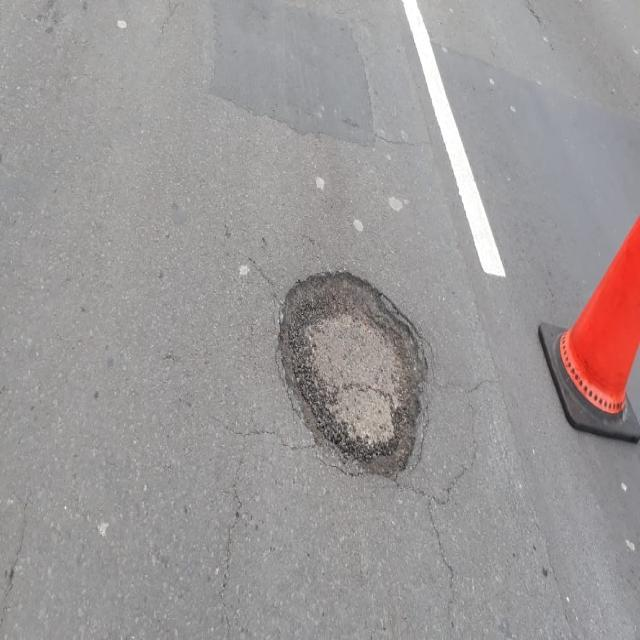Buraco: (274, 268, 433, 484)
